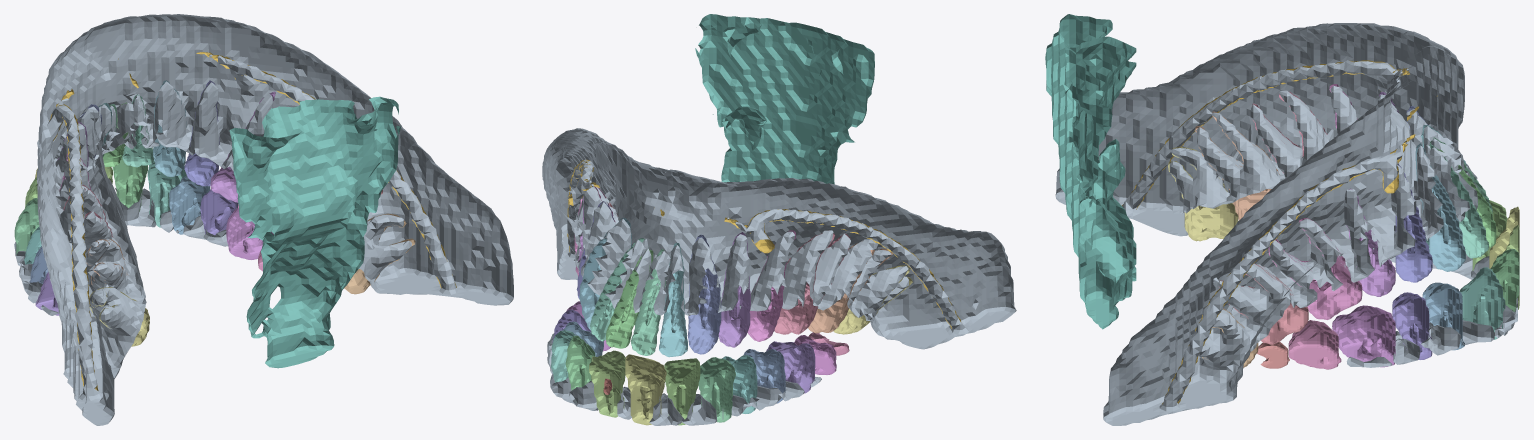
File: ToothFairy3S_0003.glb
3 renders of one model, left to right at view 1: azimuth 30°, elevation 25°; view 2: azimuth 150°, elevation 25°; view 3: azimuth 270°, elevation 25°, orthographic. The views are drawn at different scales.
Visible parts, largest first — view 1: jaws__1, other__7, jaws__2, teeth__24, teeth__26, teeth__22, teeth__23, teeth__25, teeth__33, teeth__34, teeth__13, teeth__32 (+5 smaller); view 2: jaws__1, other__7, jaws__2, teeth__11, teeth__43, teeth__42, teeth__21, teeth__13, teeth__12, teeth__41, teeth__31, teeth__16 (+14 smaller); view 3: jaws__1, other__7, jaws__2, teeth__26, teeth__33, teeth__23, teeth__36, teeth__27, teeth__48, teeth__25, teeth__34, teeth__24 (+11 smaller).
Part boxes in pixels (x1,y1,x2,y2): jaws__1: [37, 14, 513, 425]; other__7: [229, 96, 401, 368]; jaws__2: [14, 188, 228, 315]; teeth__24: [169, 175, 210, 234]; teeth__26: [226, 207, 273, 259]; teeth__22: [112, 150, 147, 211]; teeth__23: [147, 159, 186, 227]; teeth__25: [200, 189, 238, 235]; teeth__33: [153, 80, 186, 176]; teeth__34: [184, 80, 219, 186]; teeth__13: [14, 198, 39, 254]; teeth__32: [122, 94, 153, 167]; jaws__1: [542, 128, 1016, 349]; other__7: [695, 14, 874, 184]; jaws__2: [547, 333, 821, 425]; teeth__11: [625, 354, 666, 425]; teeth__43: [687, 234, 721, 354]; teeth__42: [659, 242, 687, 357]; teeth__21: [589, 350, 625, 417]; teeth__13: [698, 357, 735, 422]; teeth__12: [664, 358, 700, 425]; teeth__41: [631, 249, 666, 355]; teeth__31: [606, 249, 653, 348]; teeth__16: [766, 341, 815, 393]; jaws__1: [1055, 23, 1477, 425]; other__7: [1045, 14, 1136, 329]; jaws__2: [1346, 254, 1517, 367]; teeth__26: [1332, 305, 1395, 367]; teeth__33: [1415, 143, 1465, 271]; teeth__23: [1460, 267, 1505, 339]; teeth__36: [1268, 218, 1362, 319]; teeth__27: [1288, 320, 1341, 369]; teeth__48: [1168, 146, 1238, 241]; teeth__25: [1392, 292, 1432, 359]; teeth__34: [1395, 163, 1432, 282]; teeth__24: [1422, 282, 1464, 350].
Size of the model in its own units: 98.52 by 51.3 by 84.97.
